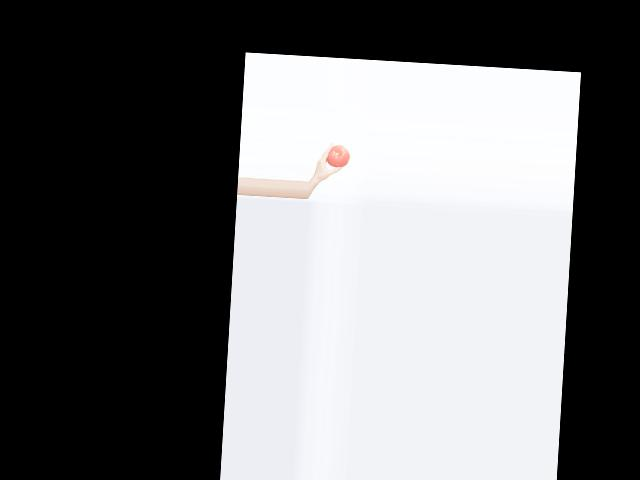tomato: (327, 144, 350, 167)
